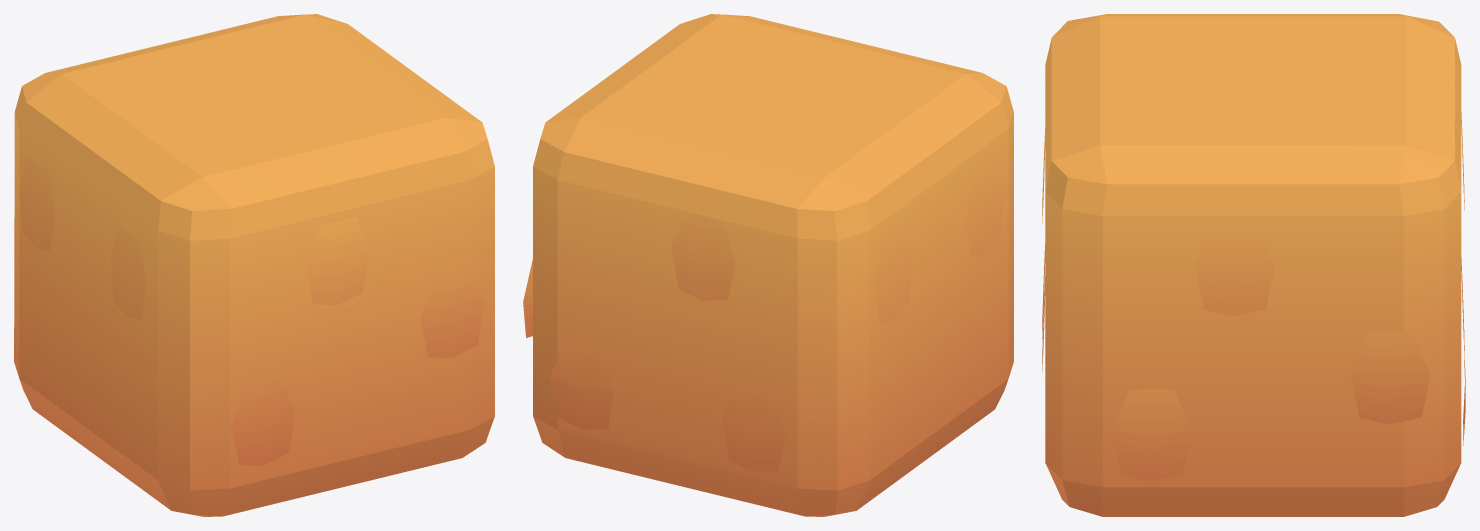
The model's file is CubyBush_Yellow.glb.
3 views of the same model, side by side, from view 1: azimuth 30°, elevation 25°; view 2: azimuth 150°, elevation 25°; view 3: azimuth 270°, elevation 25° (orthographic). The views are drawn at different scales.
Visible parts, largest first — view 1: CubyBush_Yellow; view 2: CubyBush_Yellow; view 3: CubyBush_Yellow.
Part boxes in pixels (x1,y1,x2,y2): CubyBush_Yellow: (14, 14, 494, 516); CubyBush_Yellow: (523, 14, 1013, 516); CubyBush_Yellow: (1042, 14, 1465, 516).
Size of the model in its own units: 1.26 by 1.21 by 1.25.
1 material, 1 textured.
